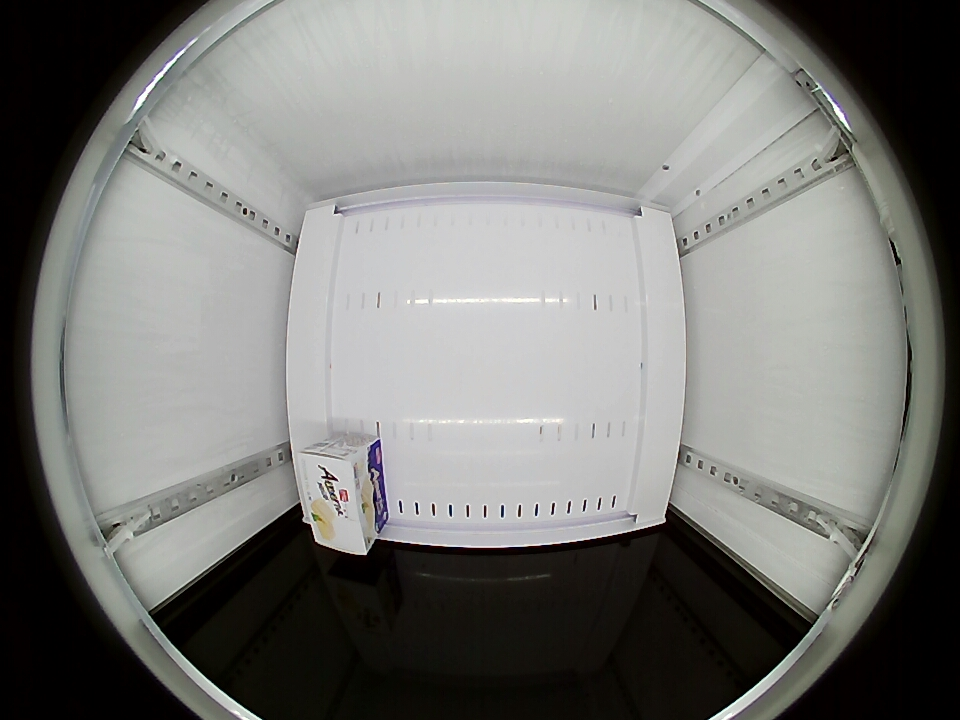meiniye: (295, 441, 379, 556)
